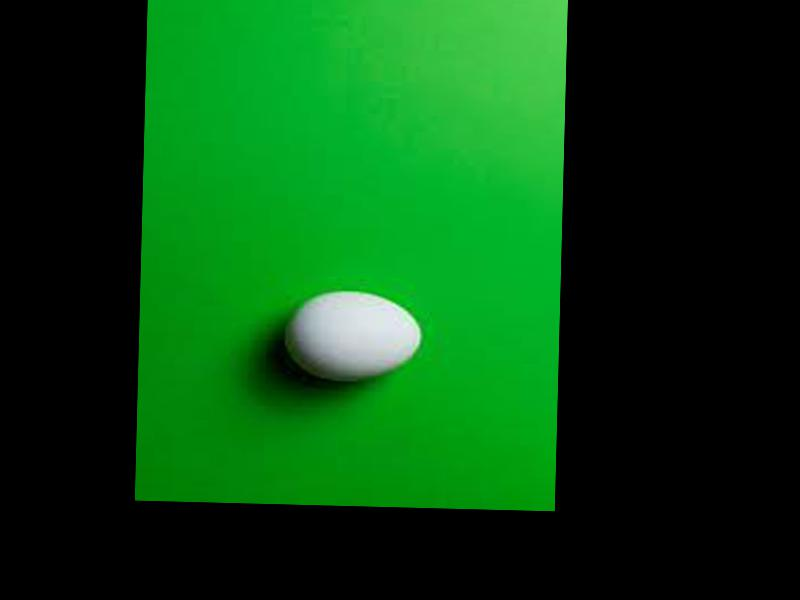Eggs: (283, 291, 422, 382)
